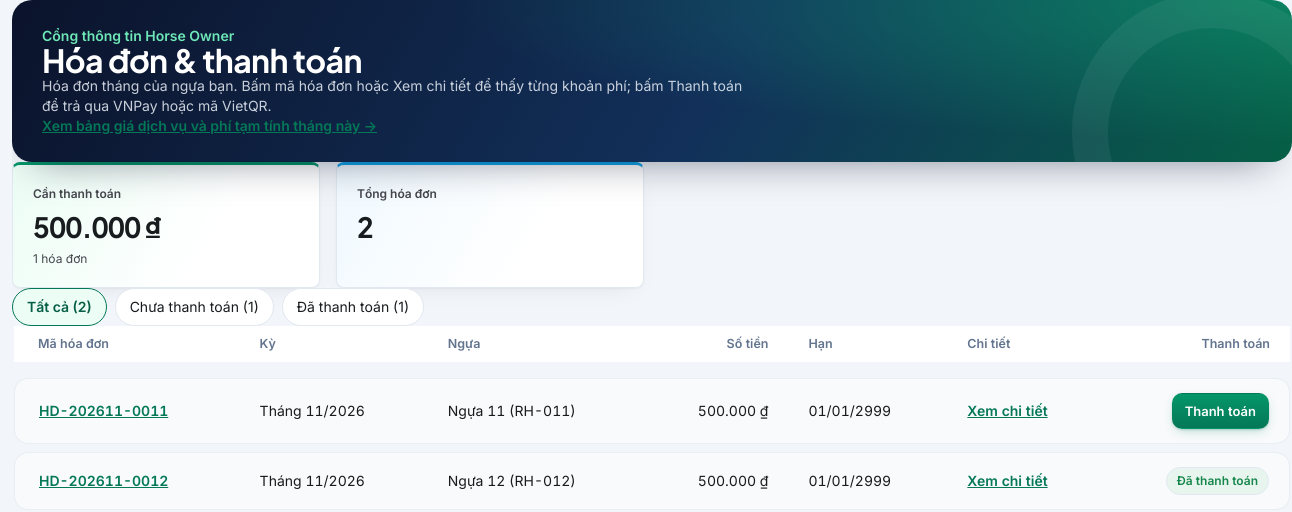
Test: DEC-016 owner invoice list: pay popup › filters unpaid and paid invoices and links to the price page instead of showing prices
The width and height of the screenshot is (1292, 512).
What coordinates should you click on to do the following:
click the button "Chưa thanh toán (1)"
I would click on:
 (194, 307)
Its box is left=115, top=288, right=274, bottom=326.
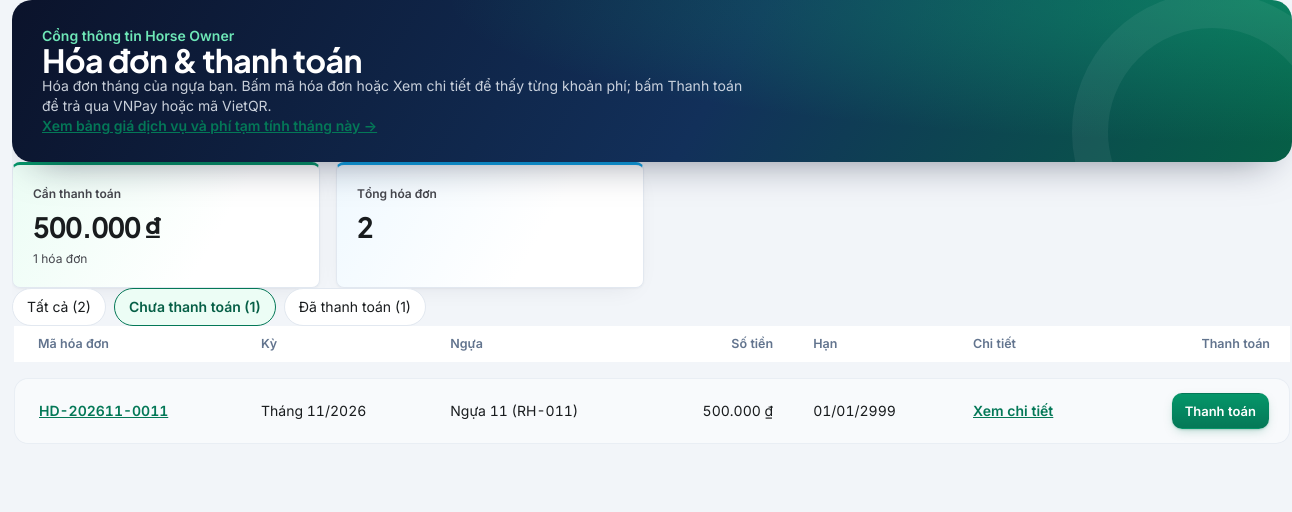
Check: the button with aria-label "Thanh toán hóa đơn HD-202611-0011" is shown, box left=1172, top=393, right=1269, bottom=429
What coordinates should you click on to do the following:
click the button "Đã thanh toán (1)"
I would click on:
 (355, 307)
Its box is left=284, top=288, right=426, bottom=326.
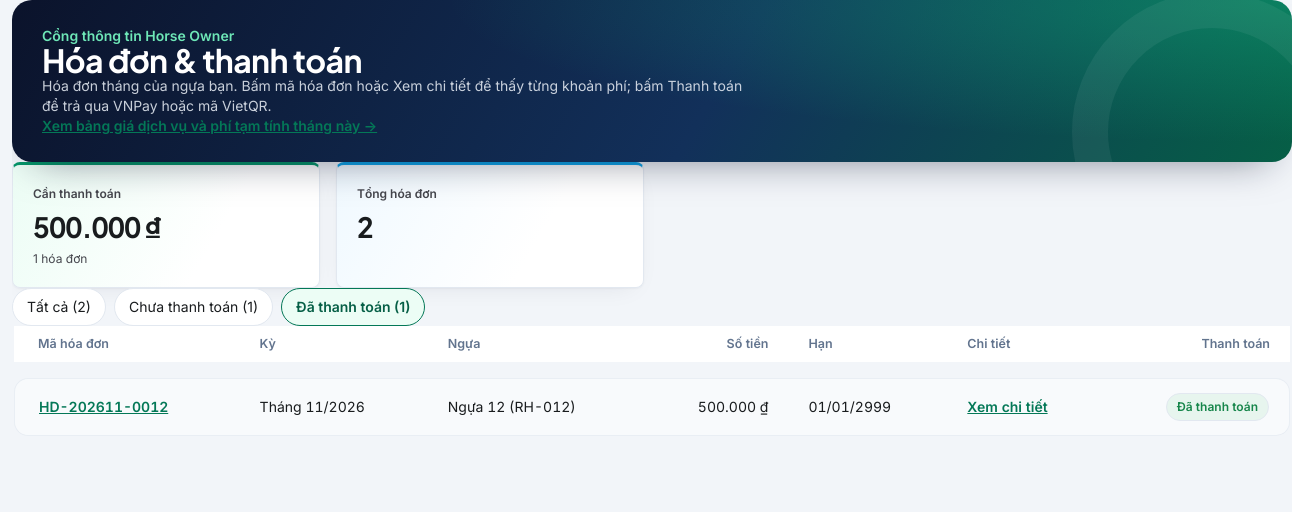
Check: the text "Đã thanh toán" is shown, box left=1166, top=393, right=1269, bottom=421
